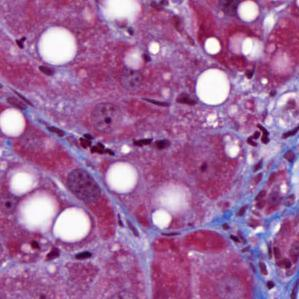inflammation: (78, 131, 117, 158), (243, 120, 275, 149)
